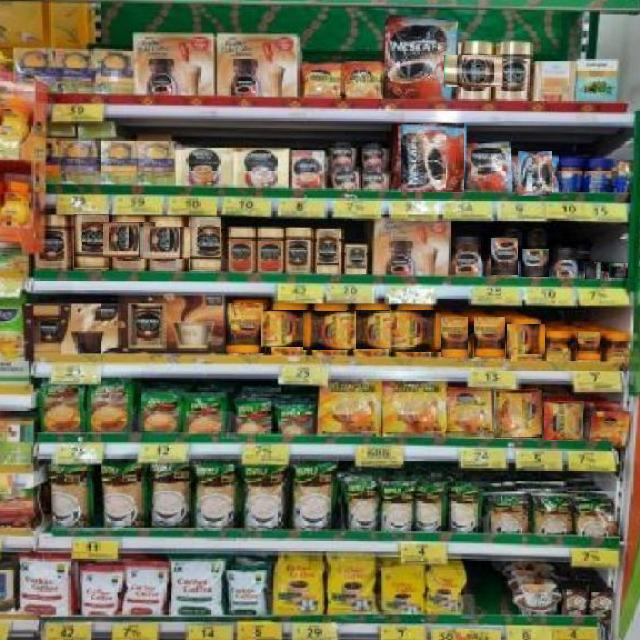Coffee: (385, 22, 453, 99), (401, 123, 464, 192), (493, 391, 542, 438), (446, 388, 493, 436), (389, 311, 441, 352), (496, 41, 532, 98), (346, 310, 398, 349), (304, 311, 356, 350), (469, 143, 513, 189), (73, 213, 109, 269), (226, 302, 265, 353), (261, 311, 315, 347), (445, 54, 503, 87), (102, 223, 156, 257), (139, 227, 194, 259), (189, 217, 221, 270), (518, 151, 552, 196), (544, 402, 583, 440), (43, 214, 69, 267), (453, 234, 484, 276), (473, 317, 505, 357), (285, 228, 312, 273), (346, 62, 382, 95), (506, 325, 545, 354), (440, 317, 468, 357), (306, 65, 342, 96), (490, 238, 518, 275), (316, 230, 339, 273), (521, 249, 549, 277), (608, 334, 633, 363), (554, 247, 577, 276), (577, 331, 600, 360), (548, 331, 569, 360), (346, 246, 366, 274), (608, 262, 628, 278), (586, 261, 601, 279)
